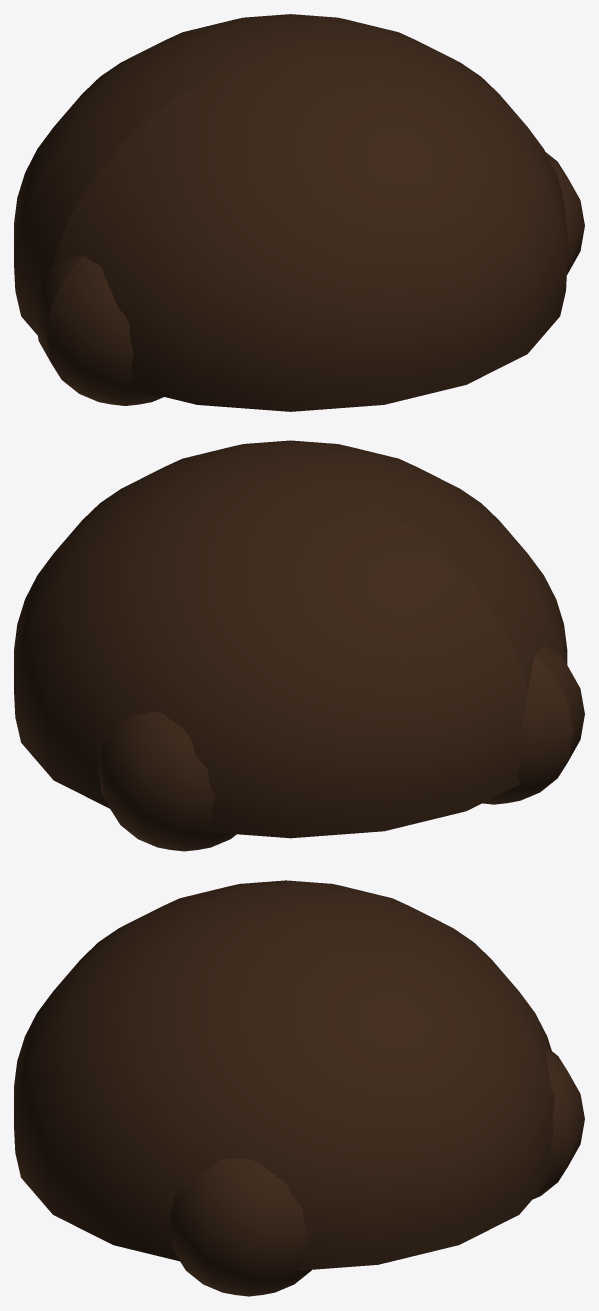
Rendered from hair-curly.glb.
The picture shows the model from 3 angles, top to bottom: view 1: azimuth 30°, elevation 25°; view 2: azimuth 150°, elevation 25°; view 3: azimuth 270°, elevation 25°; orthographic projection.
Parts seen in each view (by area): view 1: hair-curly; view 2: hair-curly; view 3: hair-curly.
Part boxes in pixels (x1,y1,x2,y2): hair-curly: (14,14,584,411); hair-curly: (14,440,584,851); hair-curly: (14,880,584,1296).
Size of the model in its own units: 0.8 by 0.426 by 0.7642.
